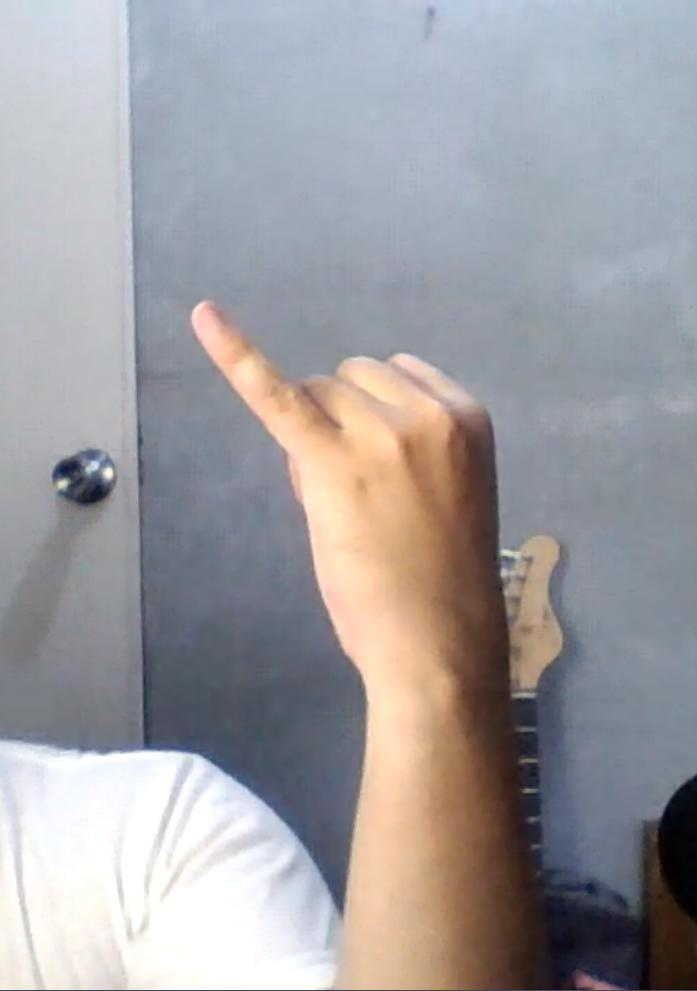j: (188, 295, 505, 644)
